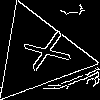X: (13, 29, 72, 77)
